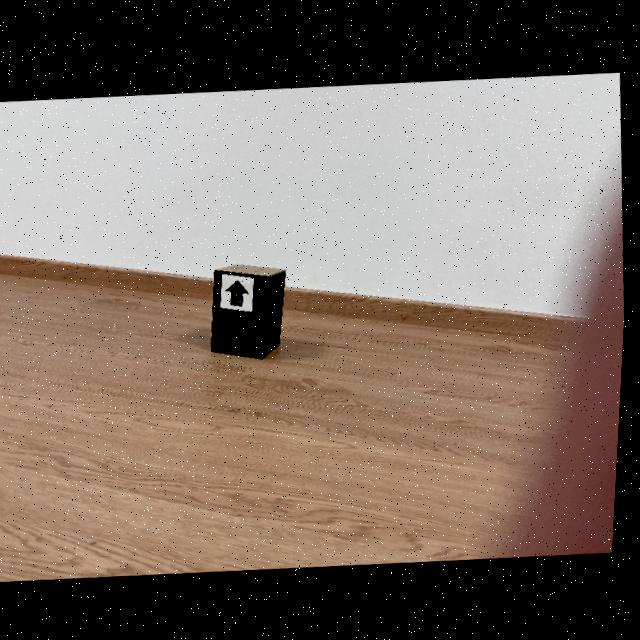UP: (229, 279, 251, 305)
